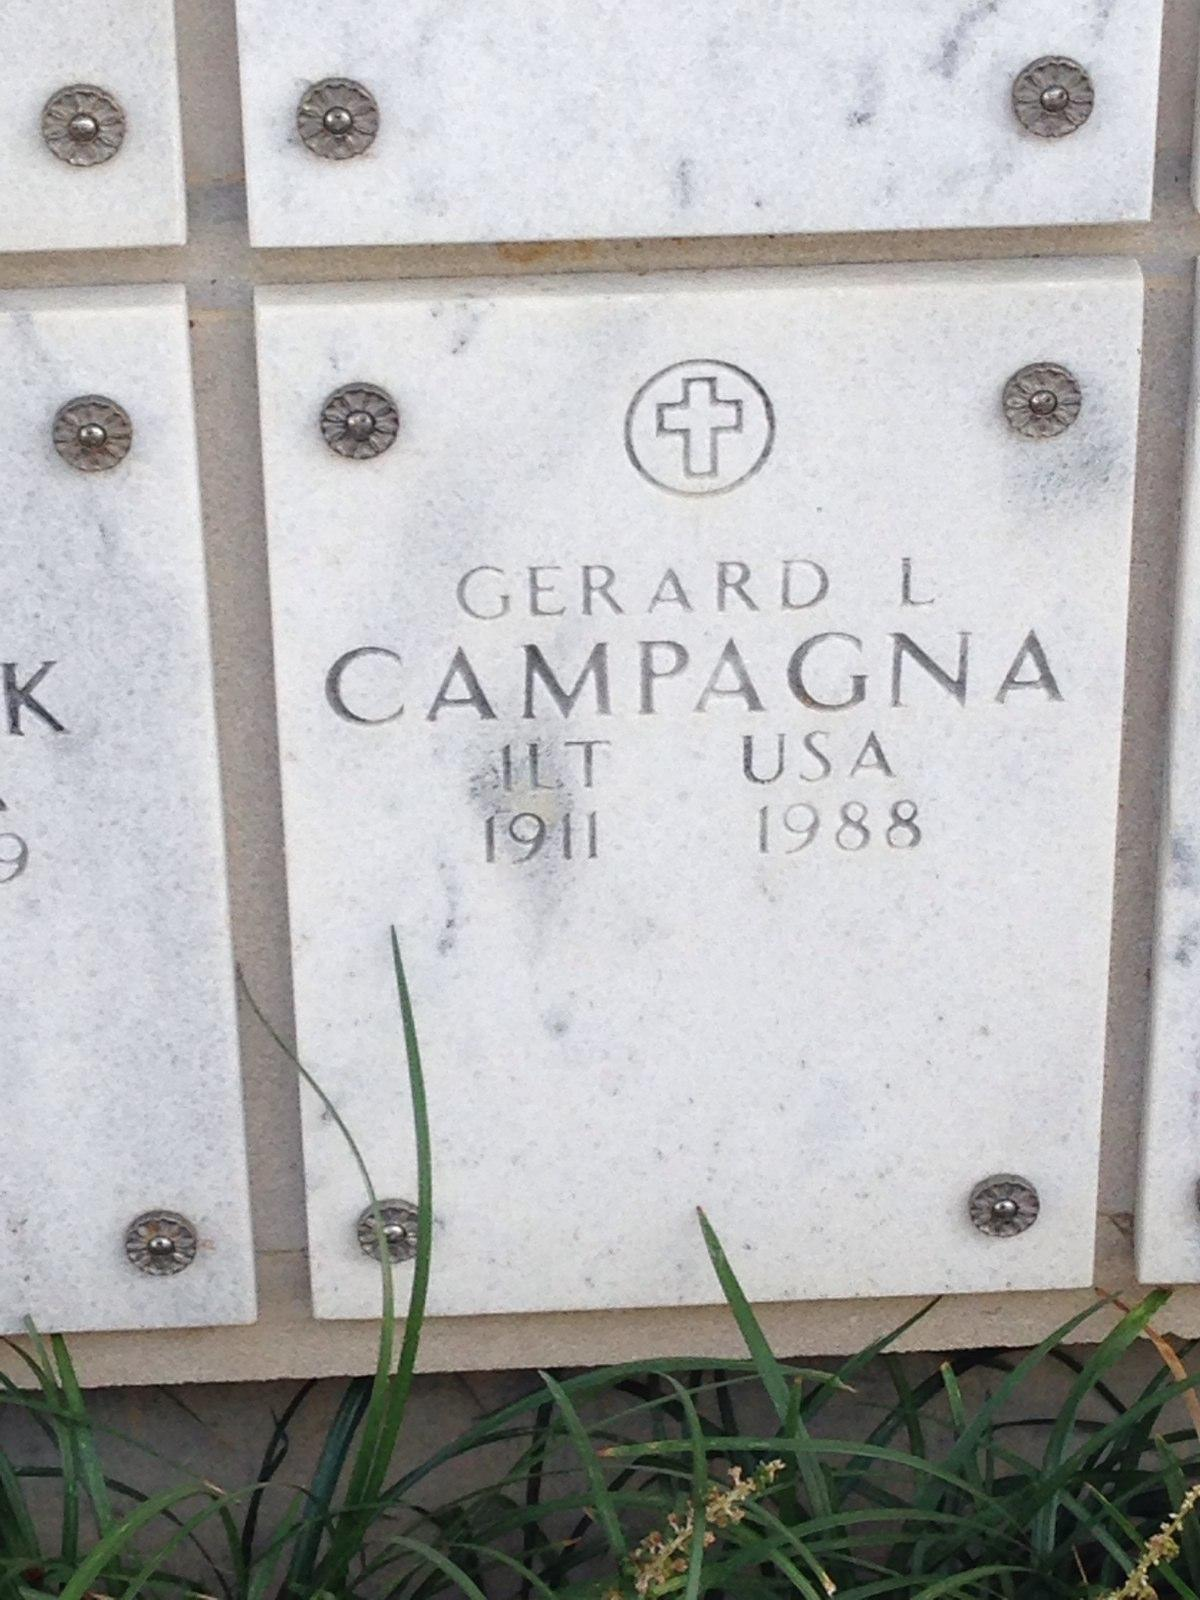plaque: (250, 247, 1152, 1320)
